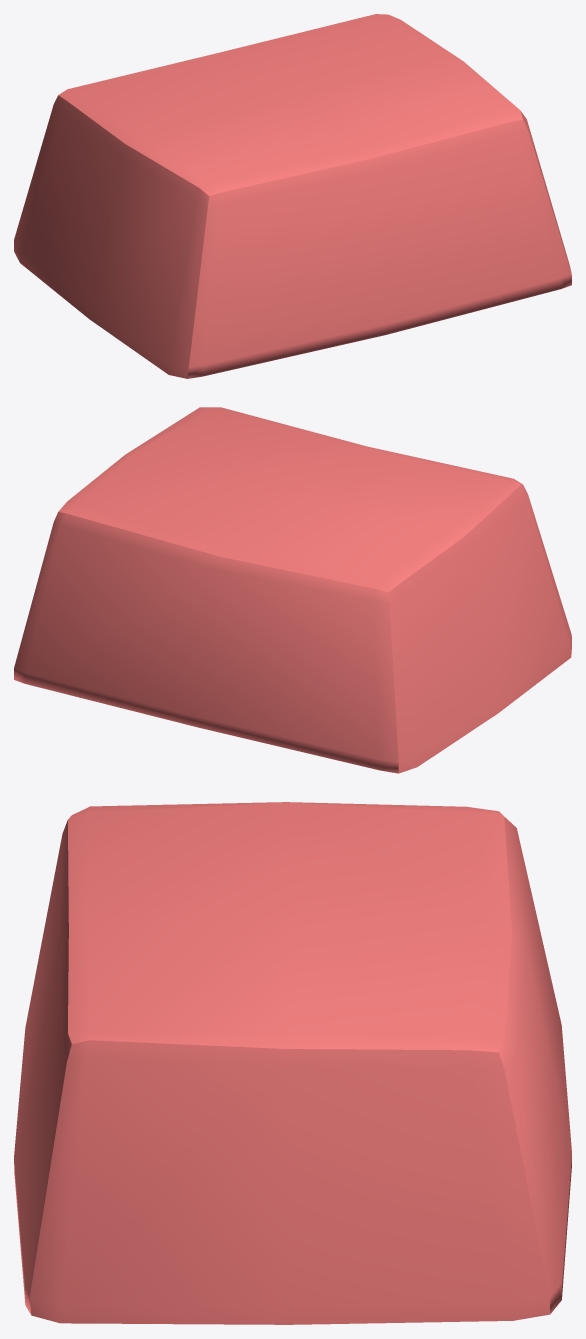
File: Enemy_Cap.fbx
3 renders of one model, top to bottom at view 1: azimuth 30°, elevation 25°; view 2: azimuth 150°, elevation 25°; view 3: azimuth 270°, elevation 25°, orthographic. The views are drawn at different scales.
Parts seen in each view (by area): view 1: cap; view 2: cap; view 3: cap.
Boxes of the visible parts, box(x1,y1,x2,y2) form: cap: box(14, 14, 571, 378); cap: box(14, 407, 571, 773); cap: box(14, 802, 571, 1324).
Size of the model in its own units: 0.5446 by 0.2204 by 0.4309.
